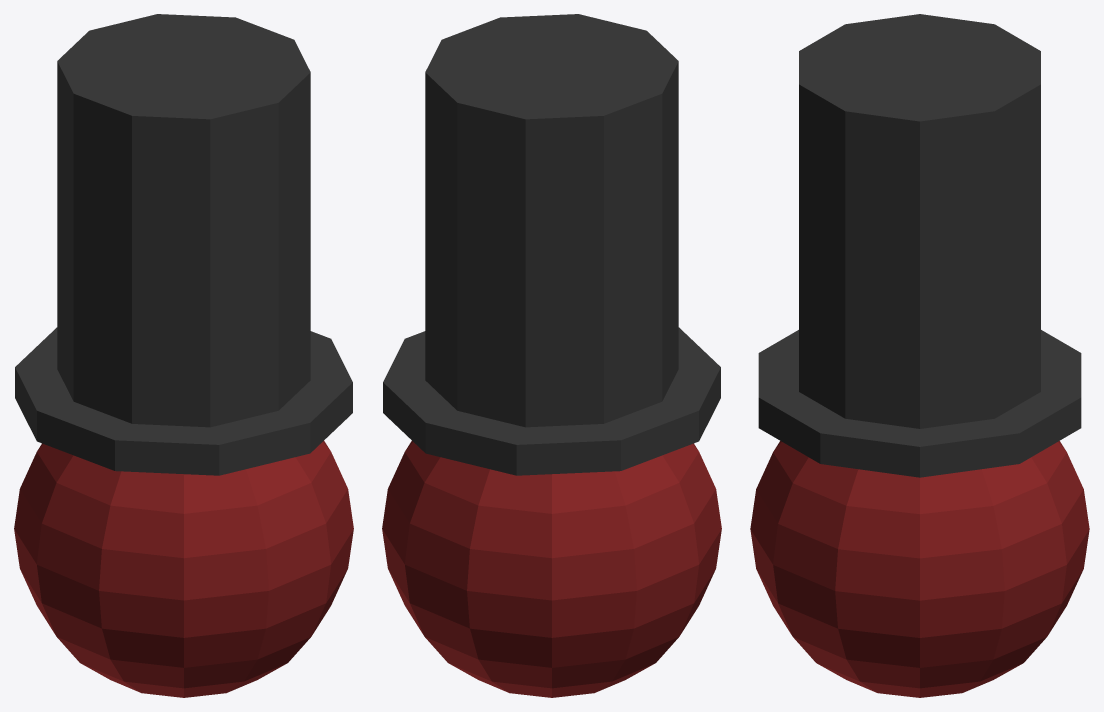
File: TopHat.fbx
3 renders of one model, left to right at view 1: azimuth 30°, elevation 25°; view 2: azimuth 150°, elevation 25°; view 3: azimuth 270°, elevation 25°, orthographic.
Visible parts, largest first — view 1: pSphere5; view 2: pSphere5; view 3: pSphere5.
Part boxes in pixels (bbox=[...]): pSphere5: bbox=[14, 14, 353, 697]; pSphere5: bbox=[382, 14, 721, 697]; pSphere5: bbox=[750, 14, 1089, 697].
Size of the model in its own units: 100 by 200 by 100.
